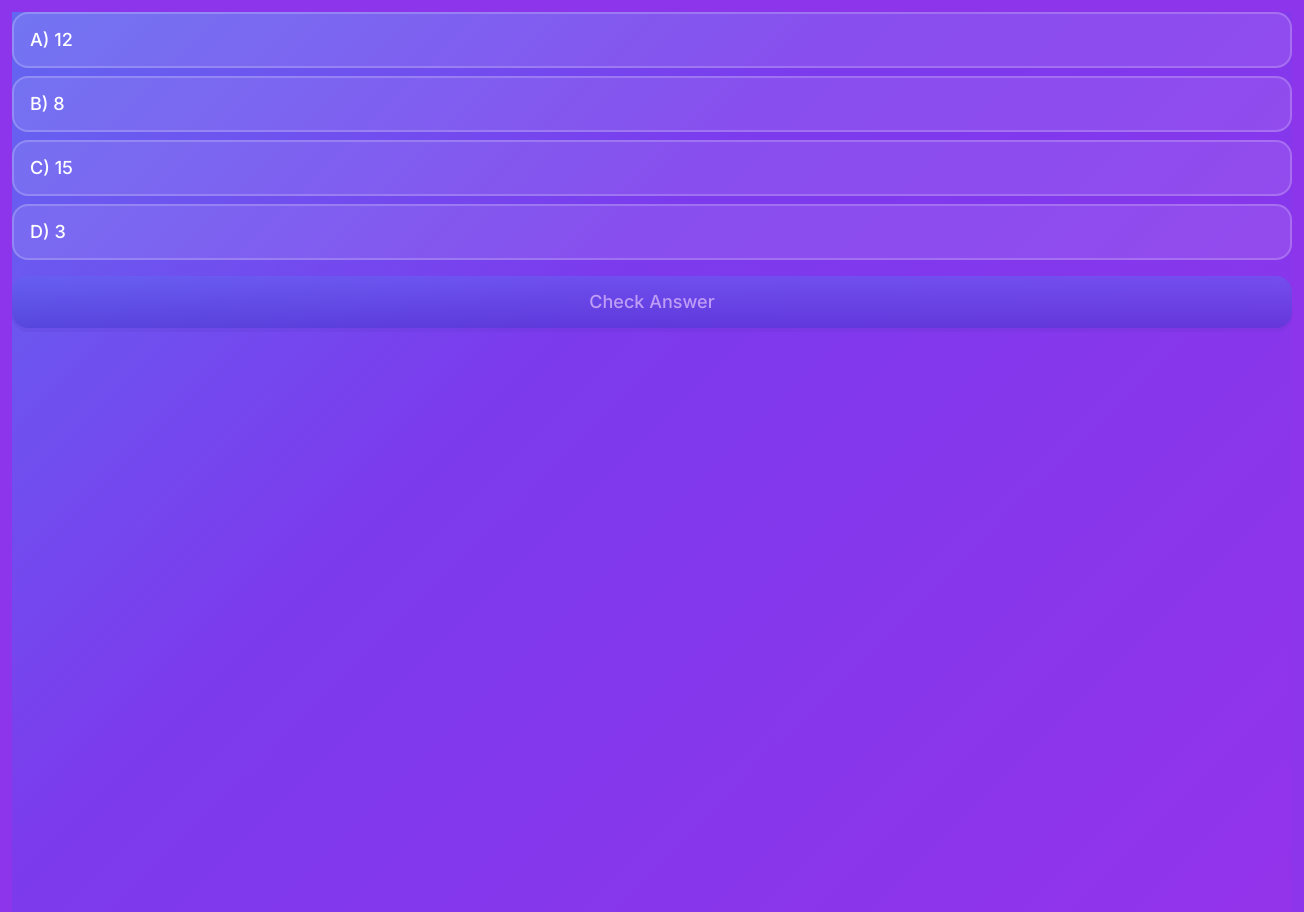
it: AnswerInput › multiple choice interaction › should enable submit after selecting an option
Expected: the button "Check Answer" is disabled, [12, 276, 1292, 328]
Click the button "B) 8". click: (47, 104)
box: [12, 76, 1292, 132]
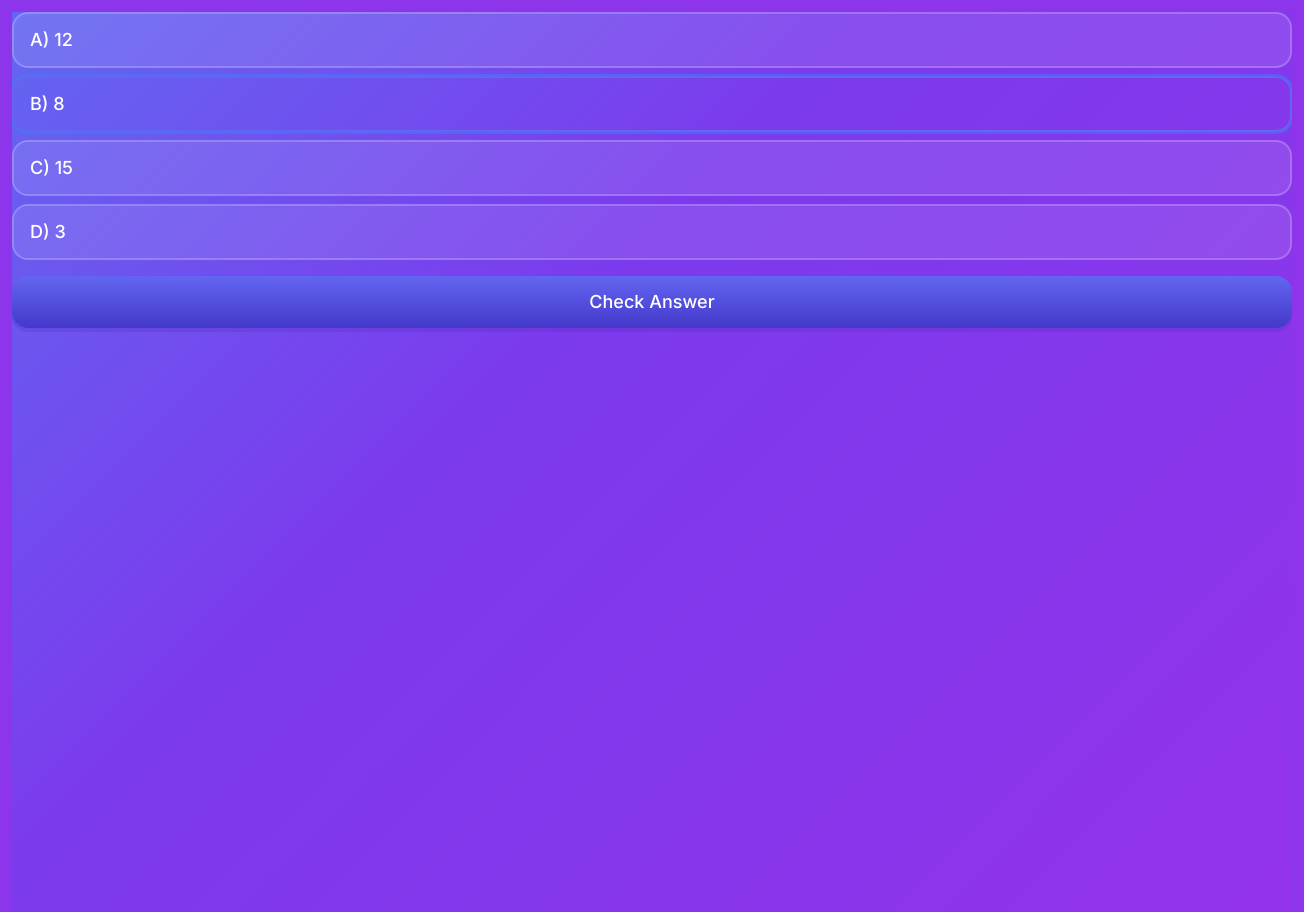
Result: the button "Check Answer" is enabled at [12, 276, 1292, 328]
